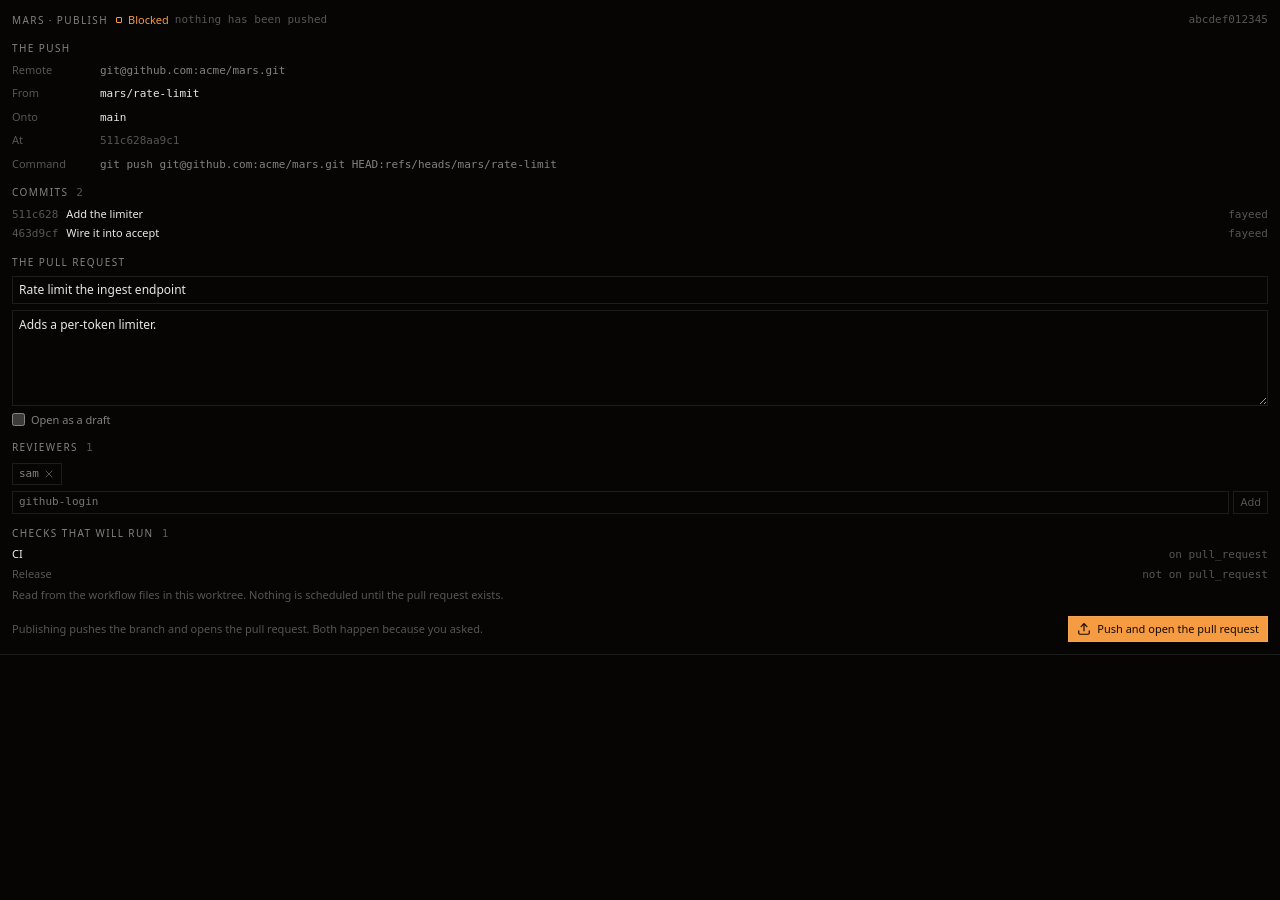
PublishPreview: the exact pull request › removes a reviewer
Click the button named "Remove sam" at [49, 474], box [43,468,55,480]
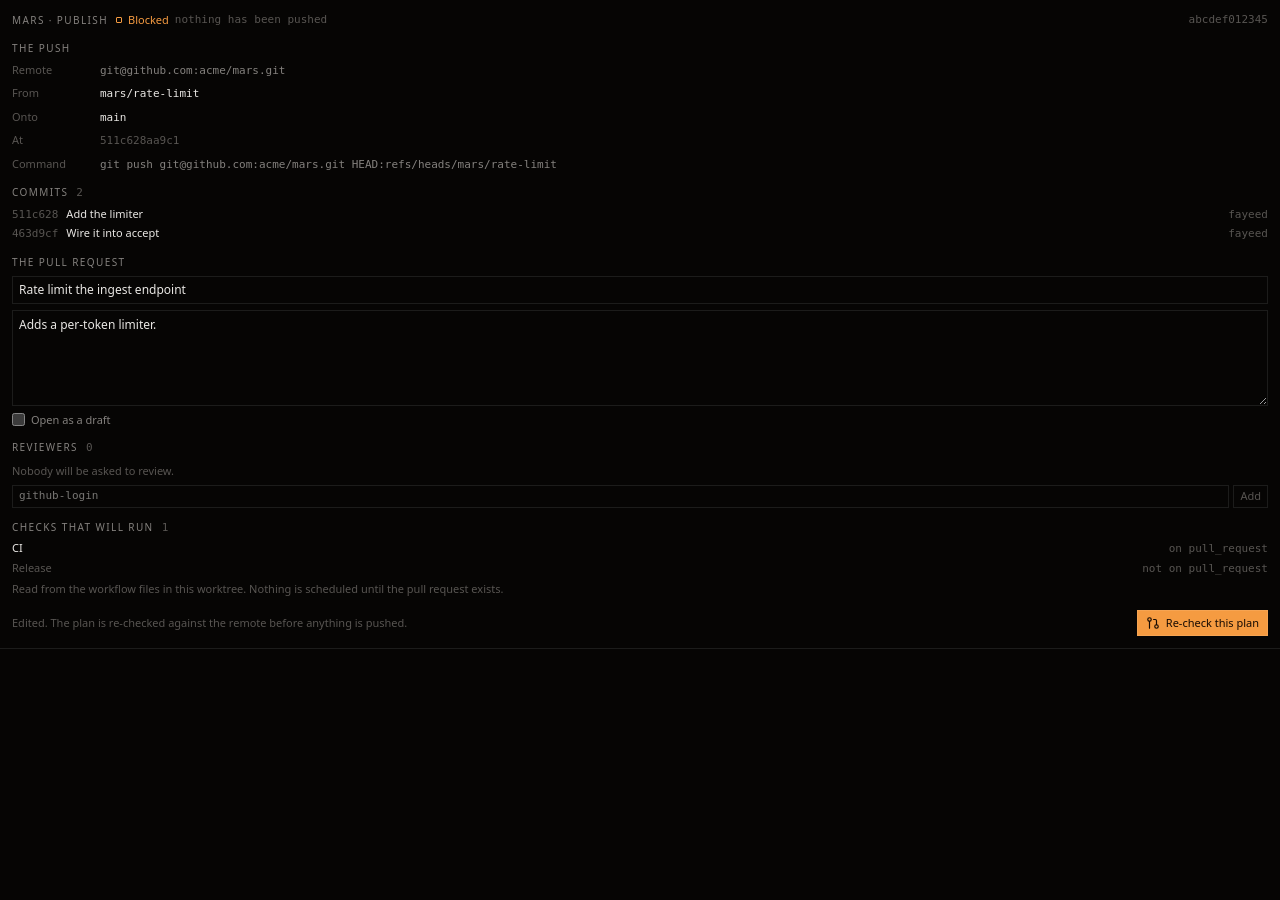
Now the text "Nobody will be asked to review." is shown, box [12,462,174,478]
